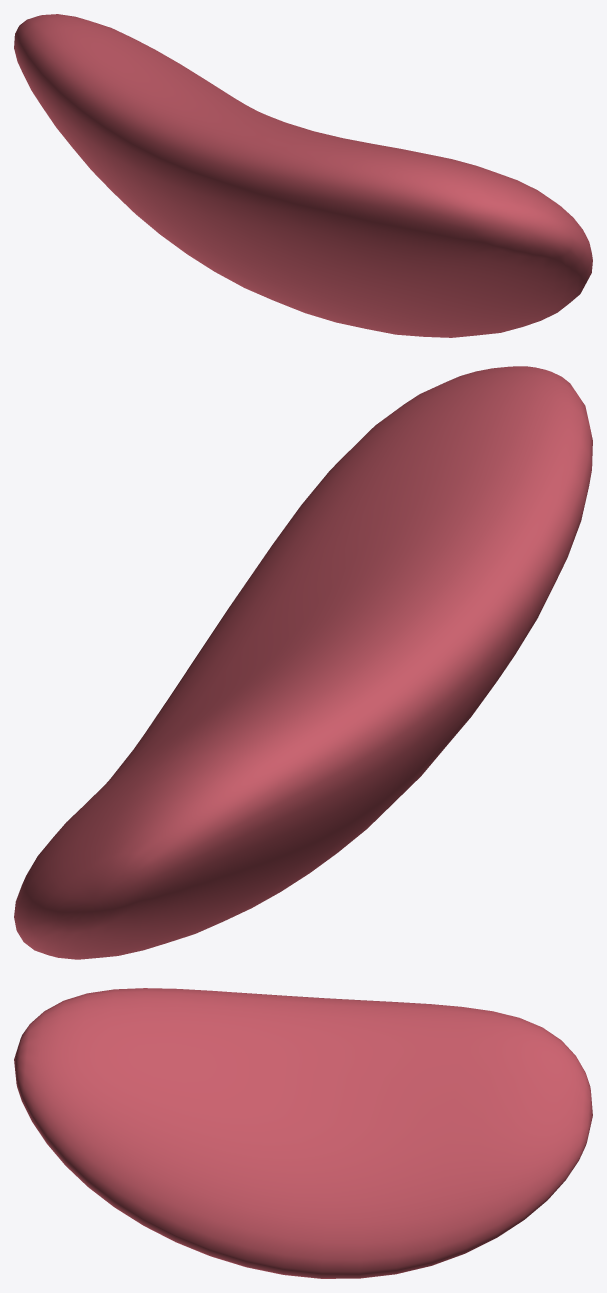
3 views of the same model, one above another, from view 1: azimuth 30°, elevation 25°; view 2: azimuth 150°, elevation 25°; view 3: azimuth 270°, elevation 25° (orthographic). The views are drawn at different scales.
Visible parts, largest first — view 1: 左侧肱二头肌桡骨囊; view 2: 左侧肱二头肌桡骨囊; view 3: 左侧肱二头肌桡骨囊.
Part boxes in pixels (left/top/right/bottom): 左侧肱二头肌桡骨囊: left=14, top=14, right=592, bottom=337; 左侧肱二头肌桡骨囊: left=14, top=366, right=592, bottom=959; 左侧肱二头肌桡骨囊: left=14, top=988, right=592, bottom=1278.
Size of the model in its own units: 0.0102 by 0.00969 by 0.0225.
